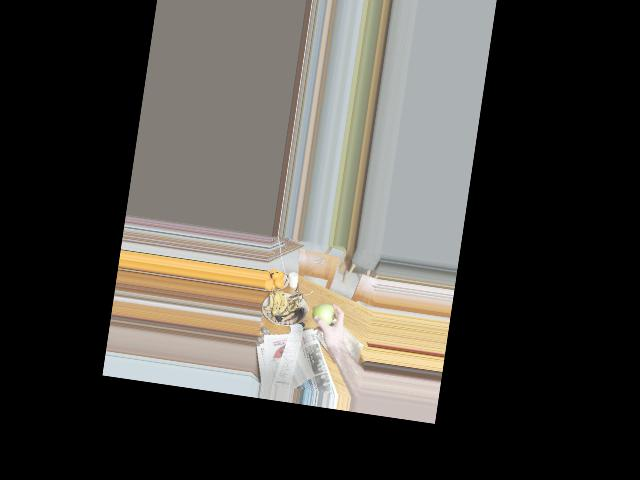apple: (311, 301, 335, 329)
